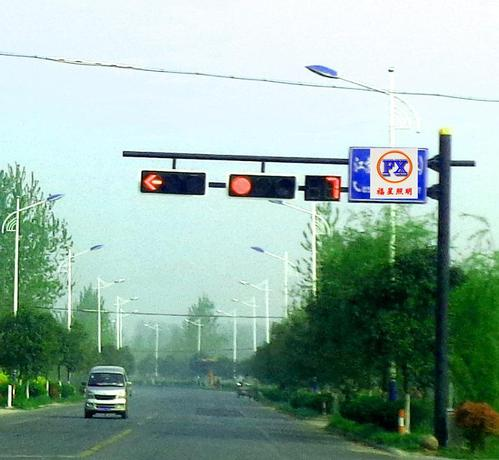red: (222, 170, 300, 201), (134, 167, 207, 197)
